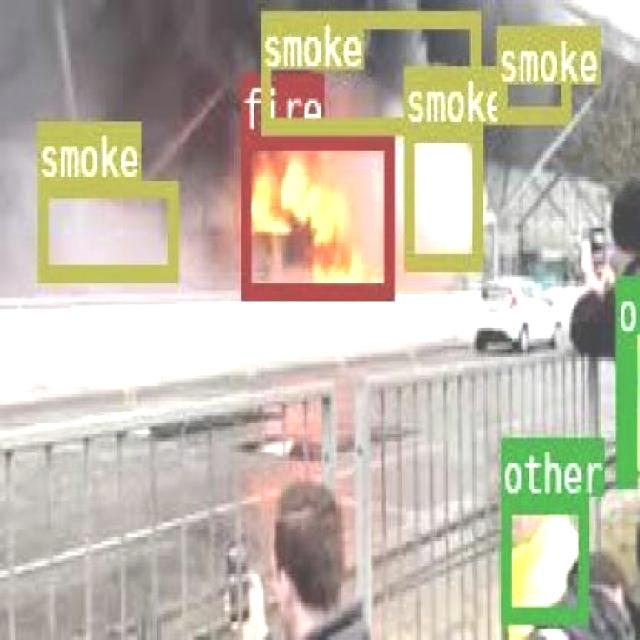fire: (239, 130, 392, 298)
smoke: (259, 11, 478, 131), (36, 180, 175, 276), (404, 121, 479, 266), (496, 24, 570, 121)
